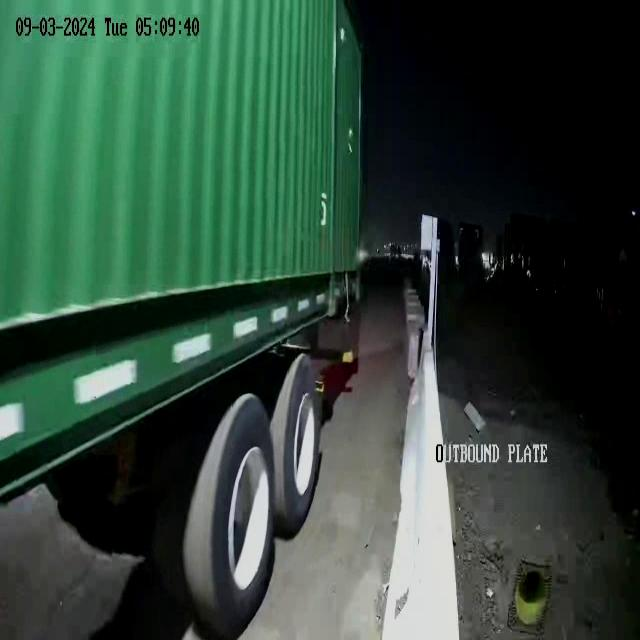CONTAINER: (0, 1, 362, 498)
